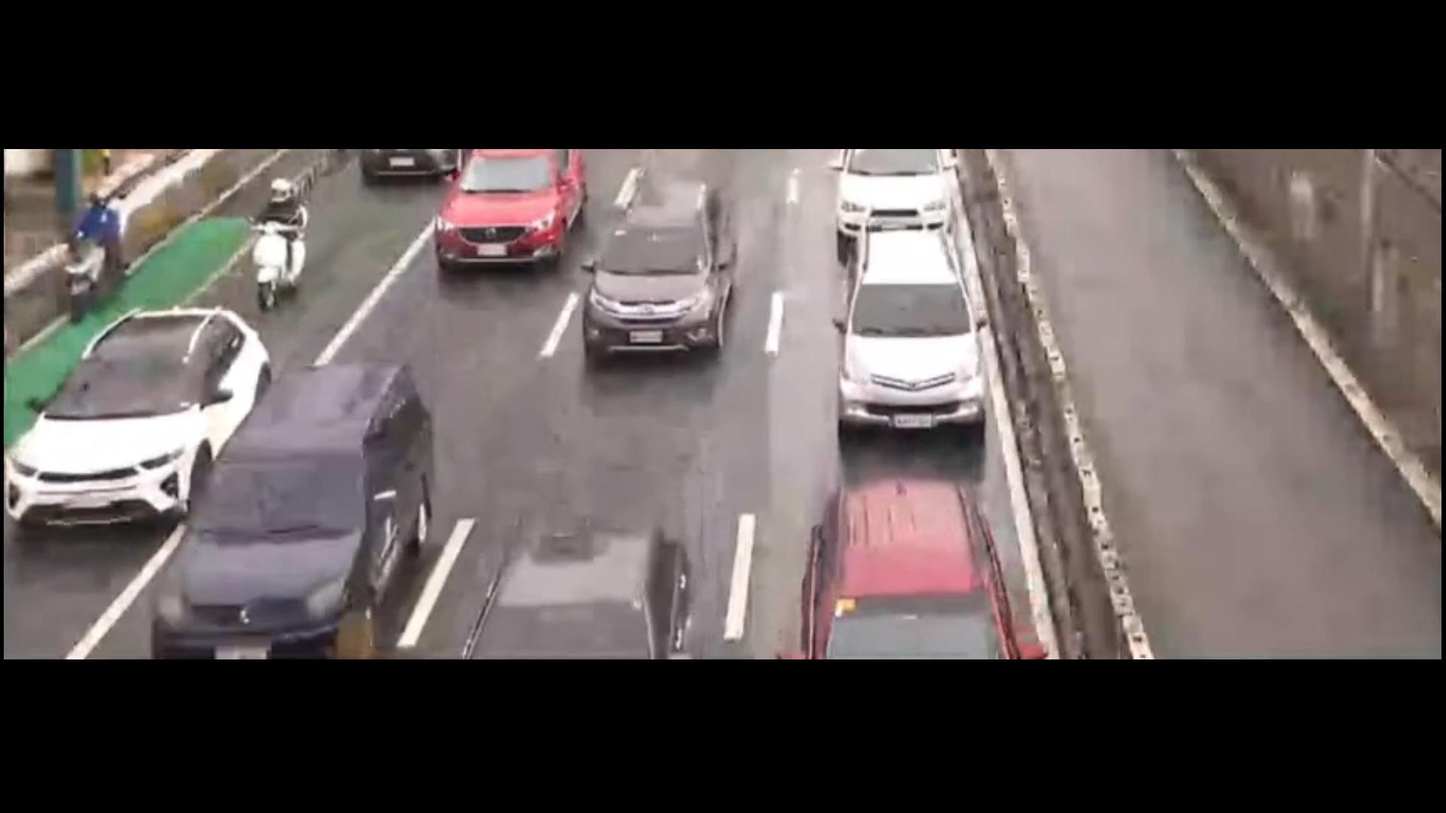Motorcycle: (37, 187, 145, 328), (244, 179, 330, 312)
SUV: (153, 354, 471, 660), (0, 286, 283, 560), (835, 224, 1004, 459), (551, 179, 744, 374), (432, 149, 587, 277)
